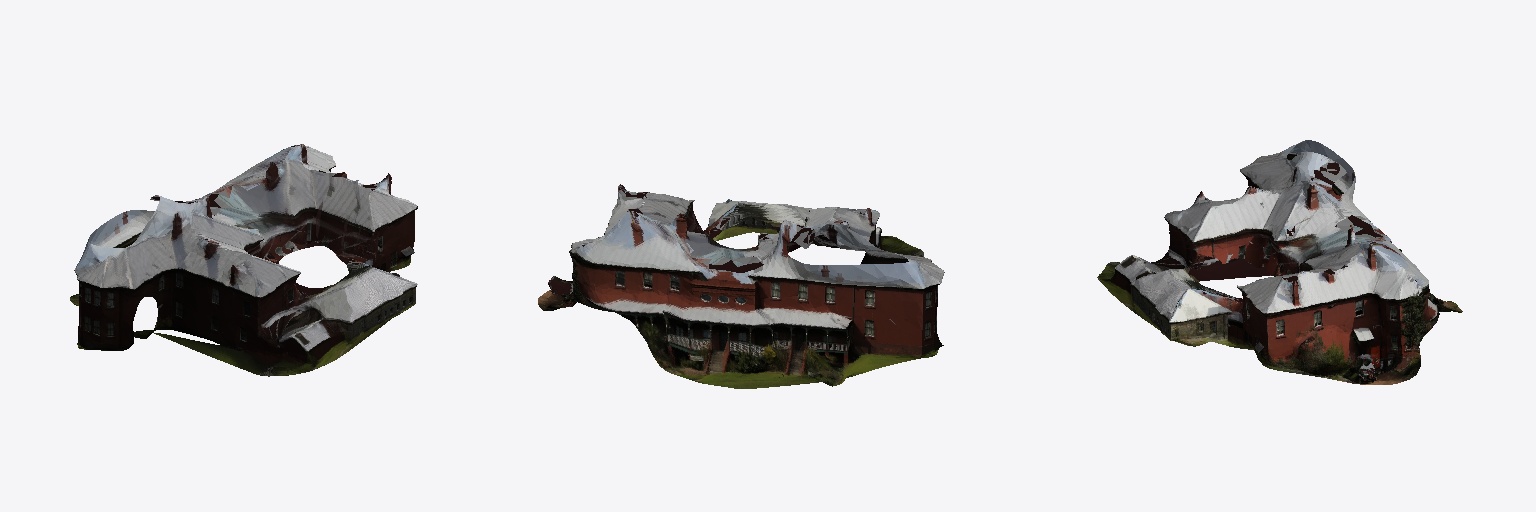
3 views of the same model, side by side, from view 1: azimuth 30°, elevation 25°; view 2: azimuth 150°, elevation 25°; view 3: azimuth 270°, elevation 25° (orthographic).
Bounding box in the file's own units: 14.39 × 5.08 × 12.98.
2 materials, 1 textured.